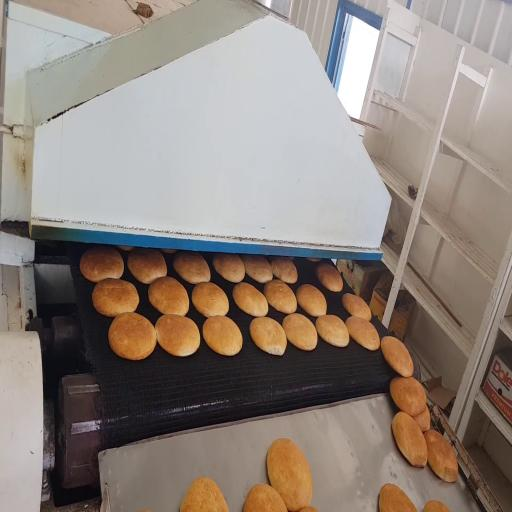bread: (267, 439, 312, 511), (108, 313, 156, 360), (392, 412, 427, 467), (155, 315, 200, 356), (92, 279, 139, 317), (424, 430, 458, 482), (180, 478, 228, 511), (203, 316, 242, 356), (80, 247, 123, 283), (149, 277, 189, 315), (390, 377, 426, 416), (250, 317, 286, 355), (128, 249, 167, 284), (192, 282, 229, 317), (381, 337, 413, 377), (283, 313, 317, 350), (243, 484, 287, 511), (173, 252, 210, 284), (233, 283, 268, 316), (264, 280, 297, 314), (346, 317, 379, 350), (315, 315, 349, 347), (379, 484, 417, 511), (297, 284, 326, 316), (213, 254, 245, 283), (242, 255, 272, 283), (342, 293, 371, 321), (316, 263, 343, 292), (271, 257, 297, 283), (414, 407, 430, 431), (423, 501, 449, 511), (300, 506, 318, 511), (160, 249, 176, 254), (118, 246, 133, 251), (307, 257, 321, 262)
